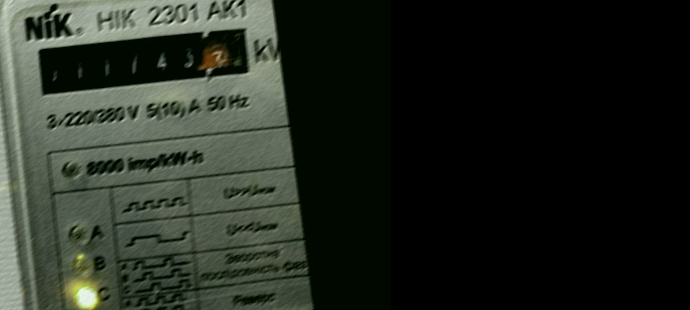0: (43, 54, 60, 82)
1: (70, 50, 87, 80), (98, 48, 114, 77)
3: (178, 41, 196, 69), (208, 47, 226, 70)
4: (153, 45, 170, 72)
7: (125, 47, 142, 74)
screen: (28, 14, 261, 107)
